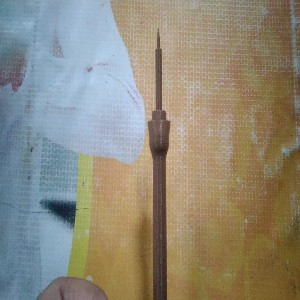solder: (147, 26, 171, 300)
